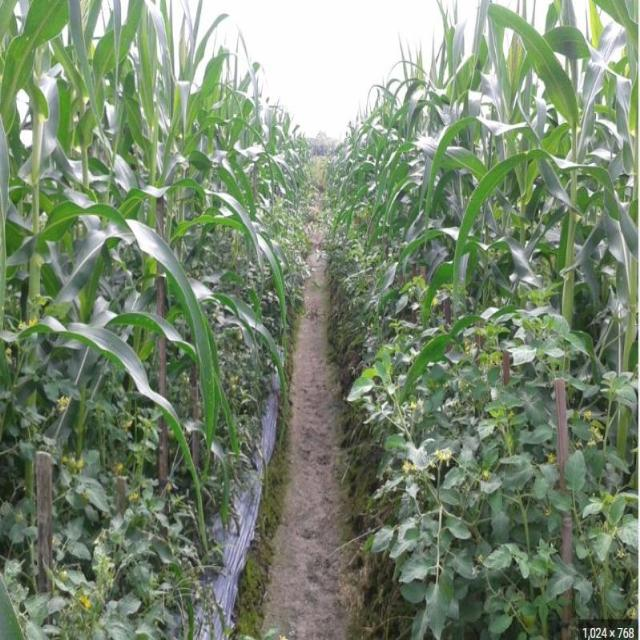row: (195, 188, 415, 638)
